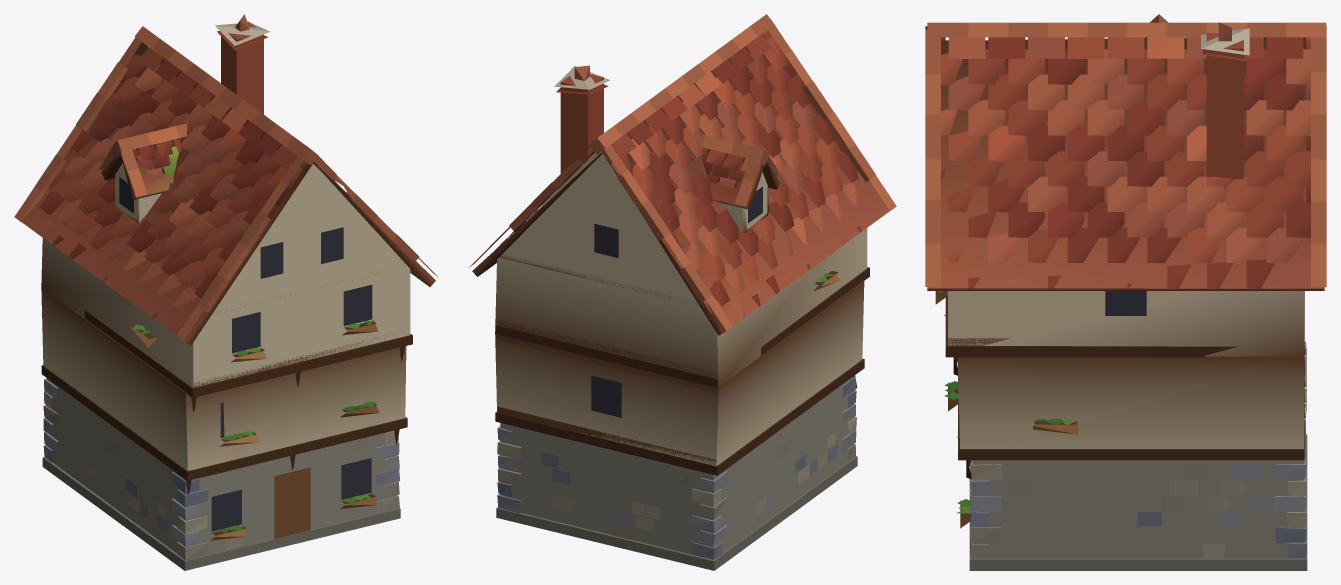
Rendered from town_house_red-lod1.glb.
The picture shows the model from 3 angles, left to right: view 1: azimuth 30°, elevation 25°; view 2: azimuth 150°, elevation 25°; view 3: azimuth 270°, elevation 25°; orthographic projection. The views are drawn at different scales.
Parts seen in each view (by area): view 1: town_house_red; view 2: town_house_red; view 3: town_house_red.
Boxes of the visible parts, <box> form: town_house_red: <box>14,14,438,570</box>; town_house_red: <box>469,14,896,570</box>; town_house_red: <box>925,14,1326,570</box>.
Bounding box in the file's own units: 8.5 × 13.77 × 9.7.
